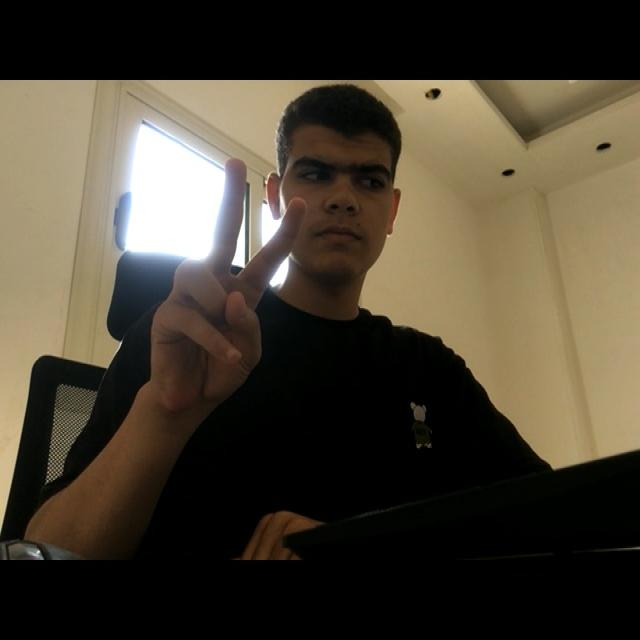Yes: (141, 115, 314, 468)
